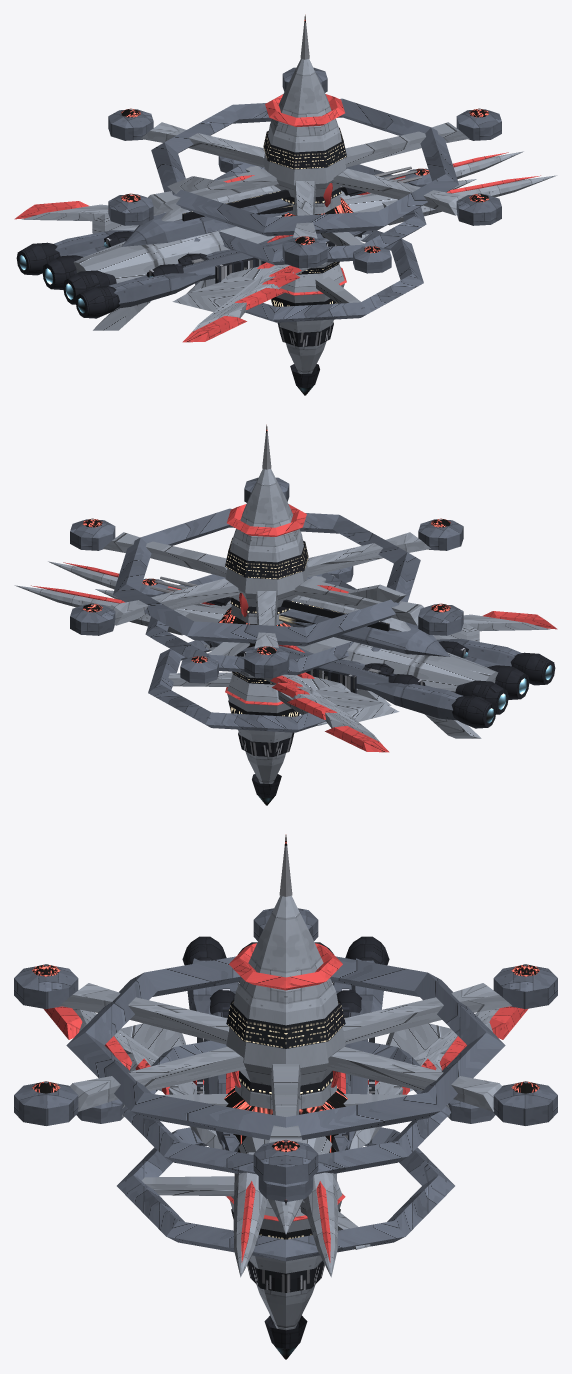
The model's file is vanguard_ships.glb.
3 views of the same model, one above another, from view 1: azimuth 30°, elevation 25°; view 2: azimuth 150°, elevation 25°; view 3: azimuth 270°, elevation 25° (orthographic). The views are drawn at different scales.
Parts seen in each view (by area): view 1: stellar_station, battleship, station, cruiser, destroyer; view 2: stellar_station, battleship, station, cruiser, destroyer; view 3: stellar_station, battleship, station, cruiser, builder.
Boxes of the visible parts, x1=… form: stellar_station: x1=108, y1=14, x2=501, y2=395; battleship: x1=14, y1=151, x2=557, y2=342; station: x1=194, y1=156, x2=431, y2=295; cruiser: x1=104, y1=177, x2=476, y2=309; destroyer: x1=178, y1=170, x2=421, y2=287; stellar_station: x1=70, y1=424, x2=463, y2=805; battleship: x1=14, y1=561, x2=557, y2=752; station: x1=140, y1=566, x2=380, y2=705; cruiser: x1=95, y1=587, x2=468, y2=719; destroyer: x1=150, y1=580, x2=394, y2=697; stellar_station: x1=14, y1=834, x2=557, y2=1359; battleship: x1=43, y1=936, x2=528, y2=1277; station: x1=76, y1=1040, x2=495, y2=1221; cruiser: x1=105, y1=989, x2=466, y2=1234; builder: x1=216, y1=1072, x2=354, y2=1151.
Size of the model in its own units: 6.56 by 4.85 by 4.56.
1 material, 1 textured.
